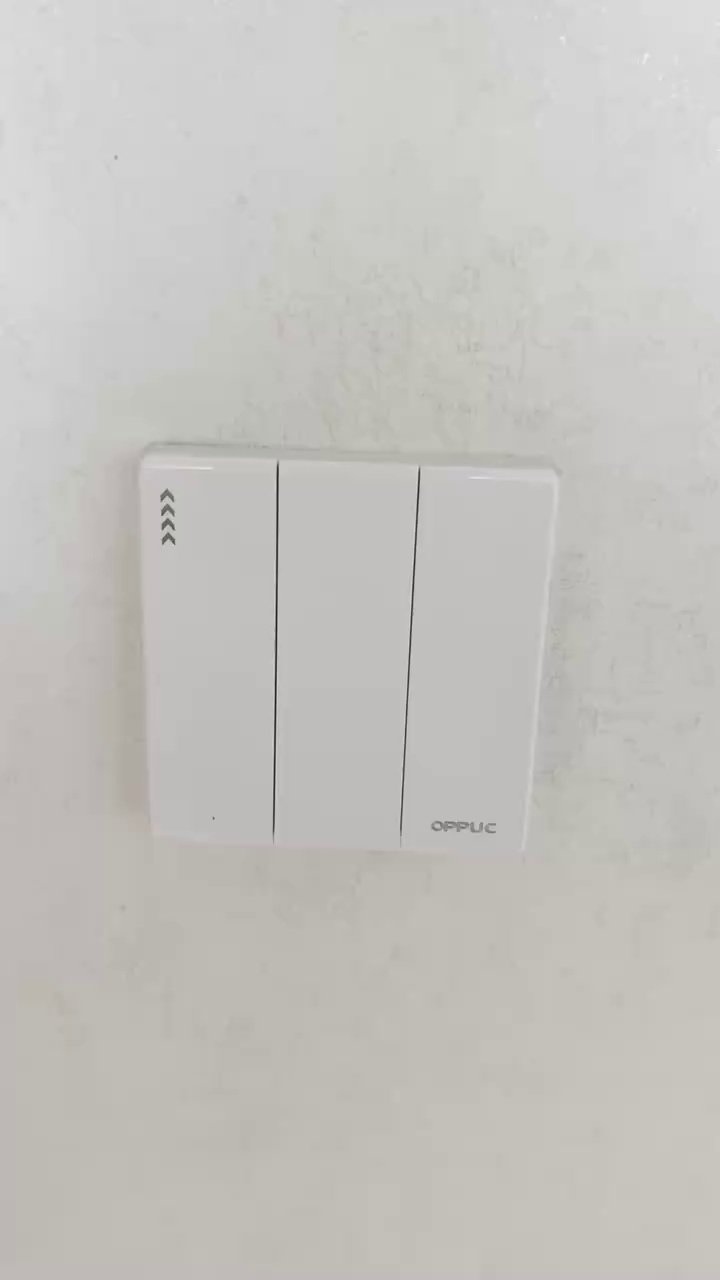button1: (271, 459, 417, 849), (401, 472, 547, 860), (145, 450, 283, 850)
